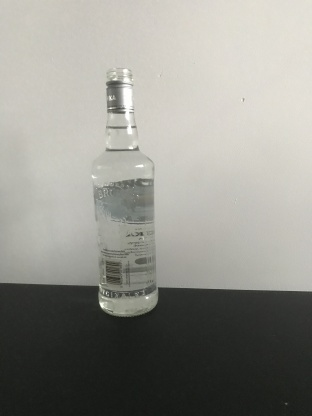nakretka: (104, 66, 135, 113)
